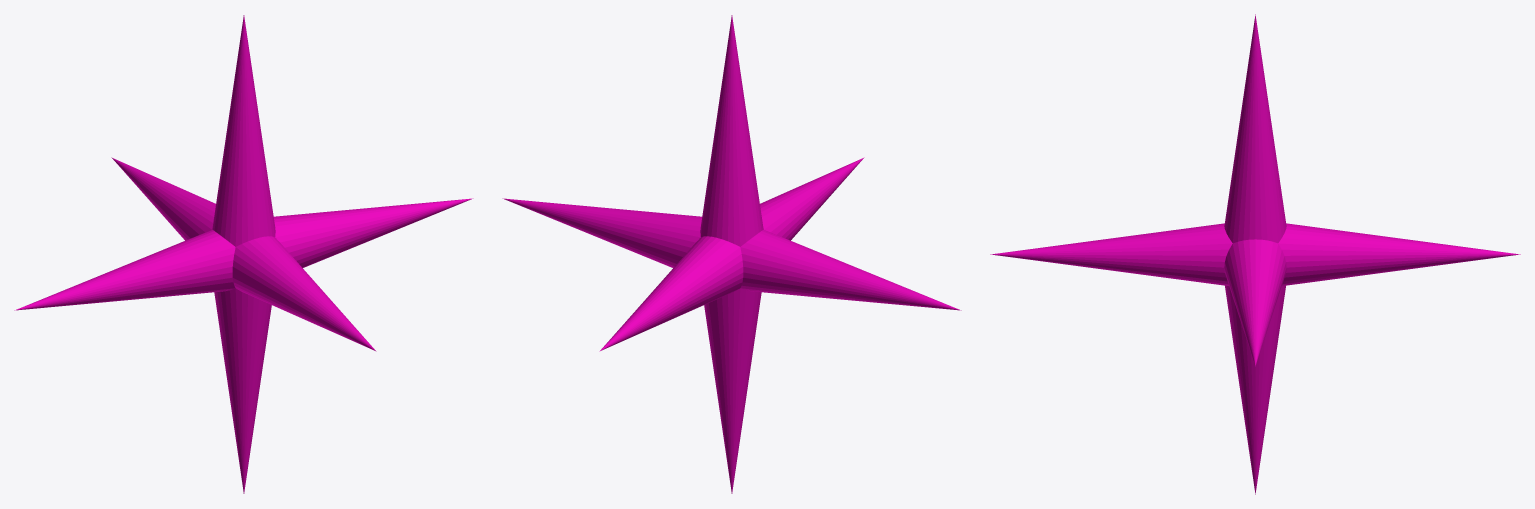
Rendered from payana.glb.
The picture shows the model from 3 angles, left to right: view 1: azimuth 30°, elevation 25°; view 2: azimuth 150°, elevation 25°; view 3: azimuth 270°, elevation 25°; orthographic projection.
Parts seen in each view (by area): view 1: Cylinder; view 2: Cylinder; view 3: Cylinder.
Part boxes in pixels (x1=…): Cylinder: x1=14, y1=15, x2=473, y2=493; Cylinder: x1=502, y1=15, x2=961, y2=493; Cylinder: x1=990, y1=14, x2=1520, y2=494.
Size of the model in its own units: 3.32 by 3.32 by 3.32.
